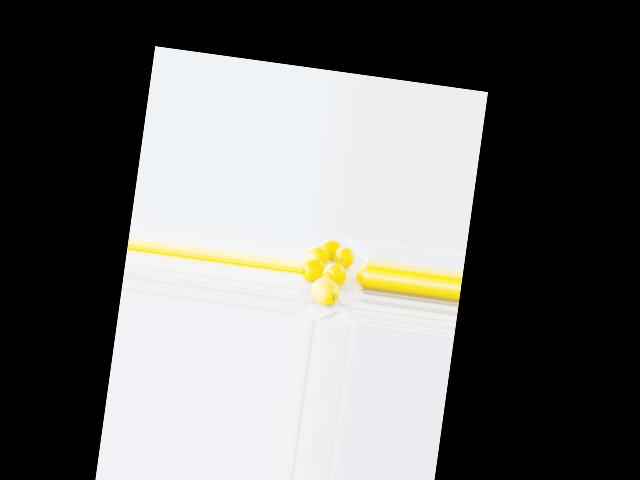lemon: (306, 274, 346, 307)
